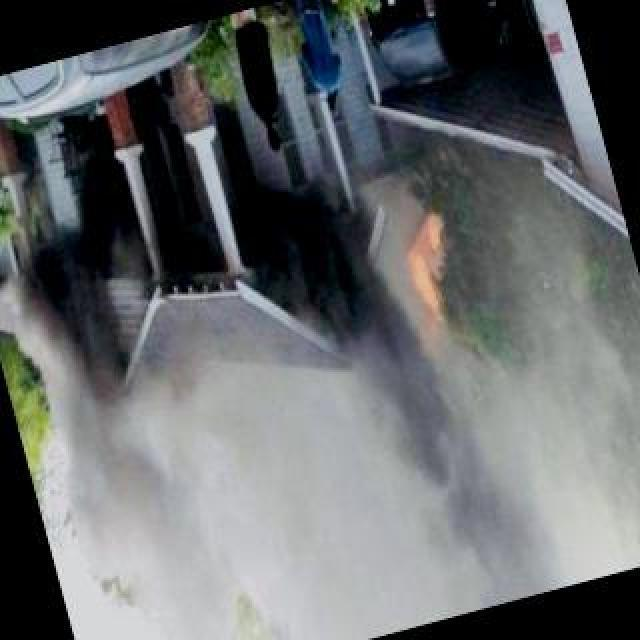smoke: (229, 159, 545, 635), (0, 232, 248, 638)
